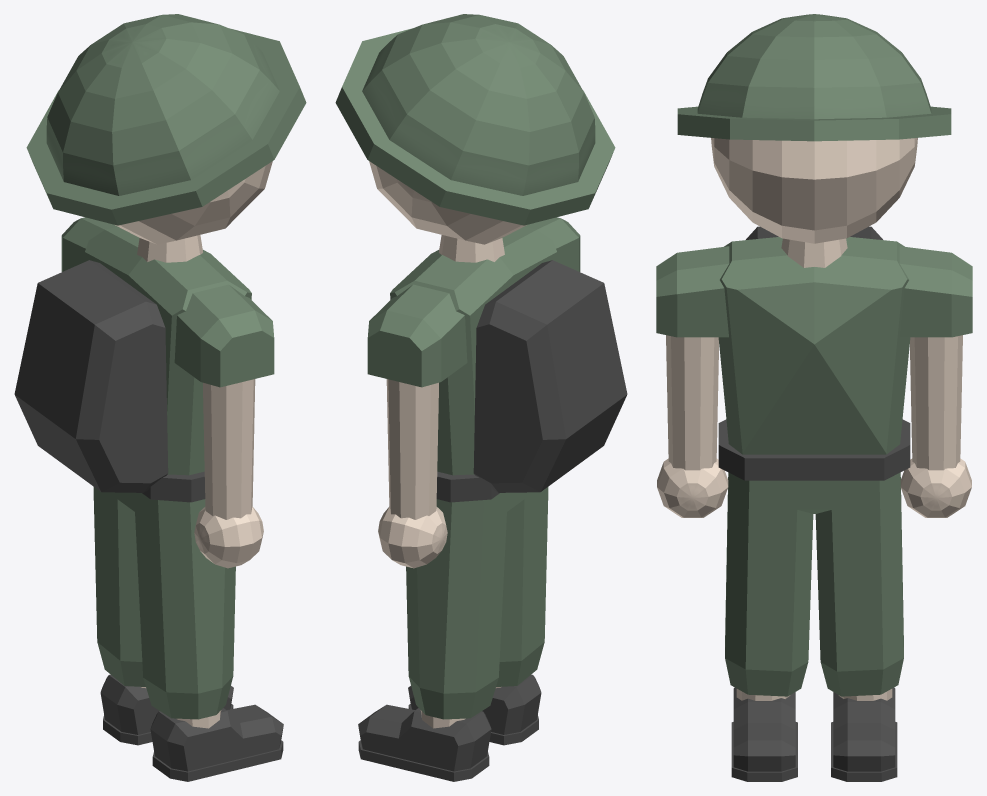
File: Infantry.fbx
3 renders of one model, left to right at view 1: azimuth 30°, elevation 25°; view 2: azimuth 150°, elevation 25°; view 3: azimuth 270°, elevation 25°, orthographic.
Visible parts, largest first — view 1: Body5, Body10, Body9, Body6, Body17, Body14, Body18, Body4, Body20, Body16, Body21, Body24 (+1 smaller); view 2: Body5, Body10, Body9, Body6, Body21, Body16, Body22, Body4, Body23, Body14, Body17, Body24 (+1 smaller); view 3: Body6, Body9, Body5, Body4, Body18, Body22, Body17, Body21, Body24, Body14, Body16, Body20 (+2 smaller).
Boxes of the visible parts, x1,y1,x2,y2 form: Body5: (26, 14, 306, 225); Body10: (14, 260, 168, 492); Body9: (93, 486, 235, 719); Body6: (85, 226, 251, 475); Body17: (174, 284, 274, 387); Body14: (150, 704, 283, 781); Body18: (203, 379, 255, 519); Body4: (115, 161, 272, 244); Body20: (194, 506, 263, 568); Body16: (100, 674, 233, 745); Body21: (61, 217, 117, 271); Body24: (142, 471, 205, 502); Body5: (335, 14, 615, 225); Body10: (473, 260, 627, 492); Body9: (406, 486, 548, 719); Body6: (390, 226, 556, 475); Body21: (367, 284, 467, 387); Body16: (358, 704, 491, 781); Body22: (386, 379, 438, 519); Body4: (369, 161, 526, 244); Body23: (378, 506, 447, 568); Body14: (408, 674, 541, 745); Body17: (524, 217, 580, 271); Body24: (436, 471, 499, 502); Body6: (718, 237, 910, 454); Body9: (725, 472, 903, 696); Body5: (677, 14, 951, 141); Body4: (711, 138, 917, 243); Body18: (666, 335, 718, 470); Body22: (910, 335, 962, 470); Body17: (656, 246, 729, 337); Body21: (899, 246, 972, 337); Body24: (718, 419, 910, 480); Body14: (731, 687, 797, 781); Body16: (831, 687, 897, 781); Body20: (657, 458, 728, 517).
Bounding box in the file's own units: 134 × 382 × 152.
